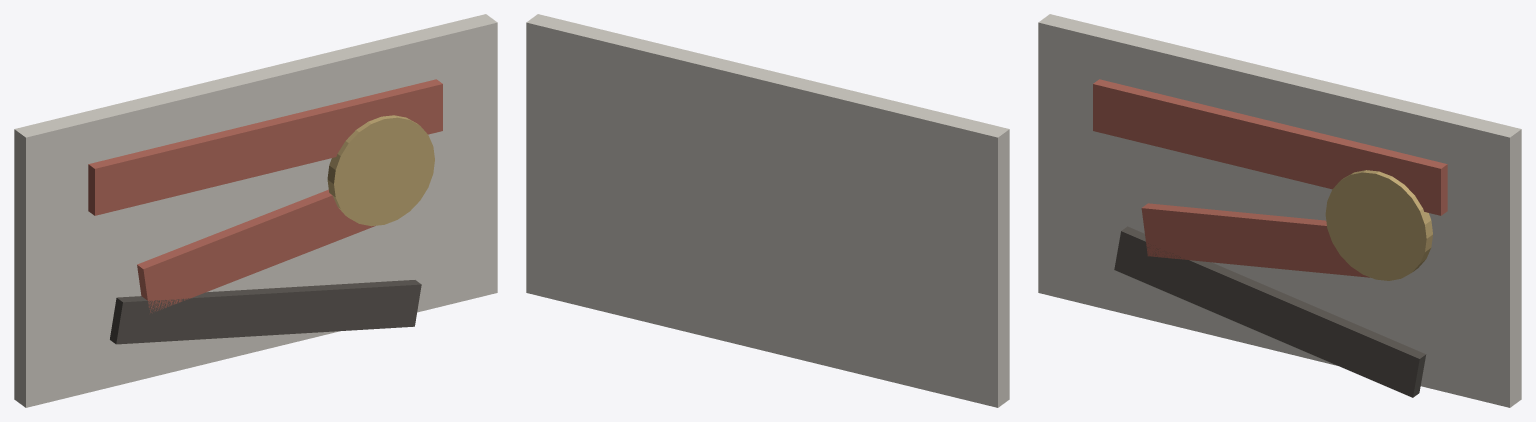
Rendered from yin_print_relief.glb.
The picture shows the model from 3 angles, left to right: view 1: azimuth 30°, elevation 25°; view 2: azimuth 150°, elevation 25°; view 3: azimuth 330°, elevation 25°; orthographic projection.
Visible parts, largest first — view 1: world; view 2: world; view 3: world.
Part boxes in pixels (<box>): world: <box>14,14,497,407</box>; world: <box>526,14,1009,407</box>; world: <box>1038,14,1521,407</box>.
Size of the model in its own units: 0.42 by 0.2357 by 0.034.
